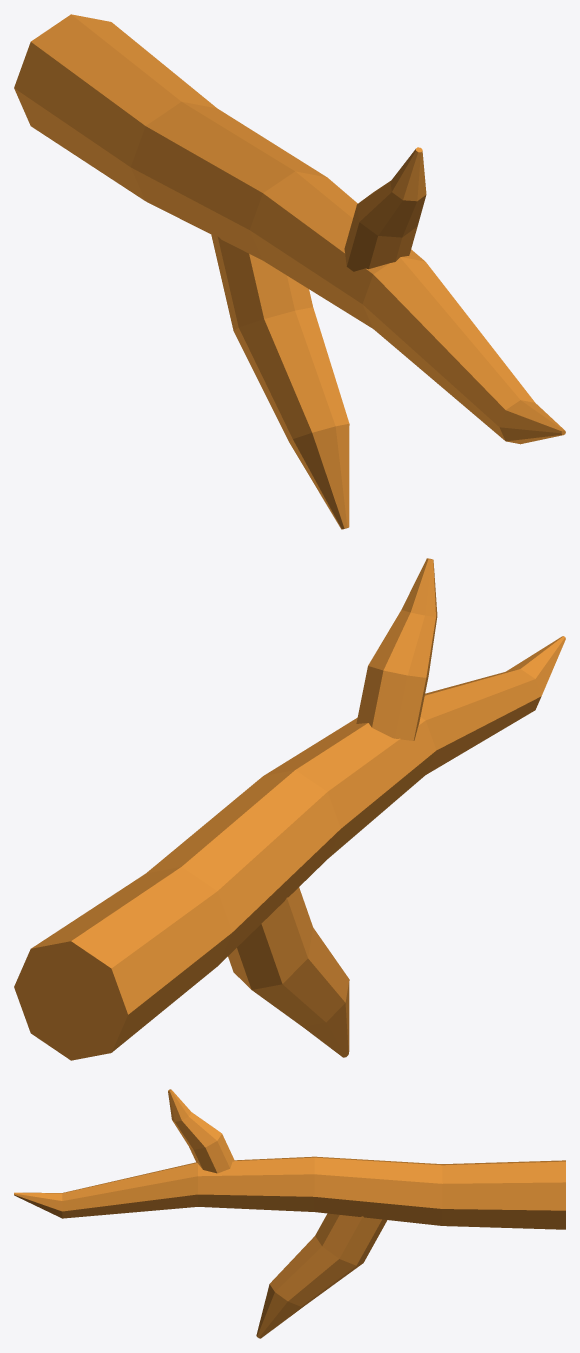
File: Branch2.fbx
3 views of the same model, one above another, from view 1: azimuth 30°, elevation 25°; view 2: azimuth 150°, elevation 25°; view 3: azimuth 270°, elevation 25° (orthographic). The views are drawn at different scales.
Parts seen in each view (by area): view 1: Branch; view 2: Branch; view 3: Branch.
Boxes of the visible parts, bbox=[...] form: Branch: bbox=[14, 14, 565, 529]; Branch: bbox=[14, 558, 565, 1060]; Branch: bbox=[14, 1089, 565, 1338].
Size of the model in its own units: 102 by 378 by 764.
